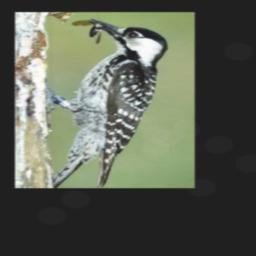Woodpecker: (44, 17, 167, 187)
